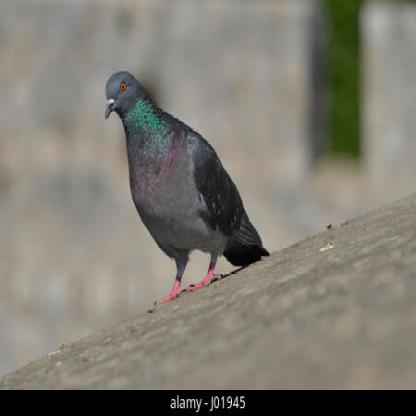Rock Pigeon: (100, 71, 260, 275)
